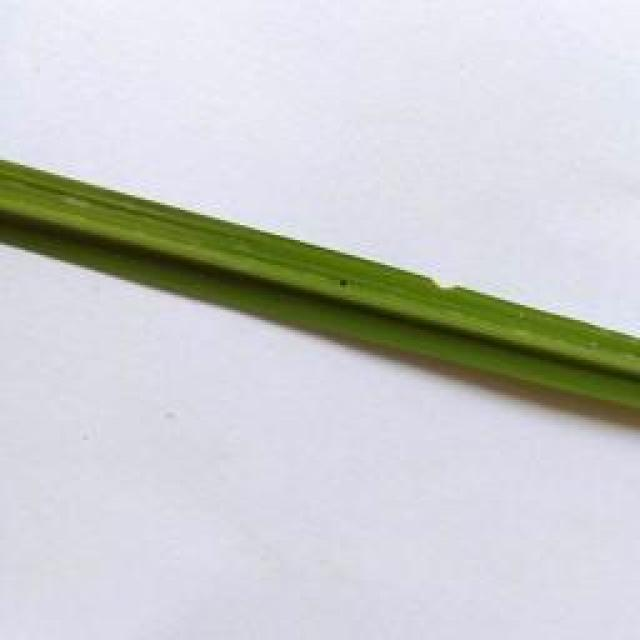Healthy-Plant: (0, 157, 323, 326), (475, 280, 640, 432)
